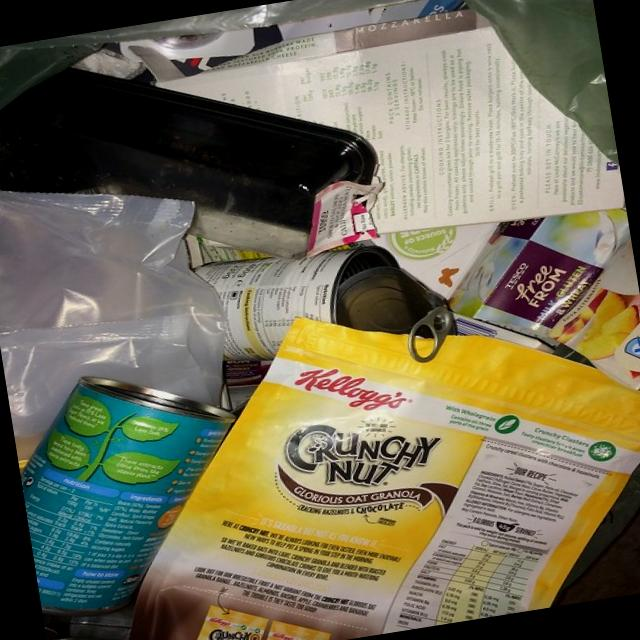Recycle: (121, 277, 640, 640), (0, 24, 407, 276), (68, 208, 439, 400), (17, 372, 223, 640), (426, 206, 640, 361)
